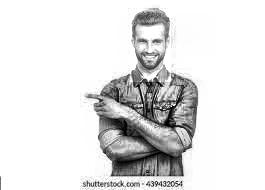happy: (130, 9, 171, 82)
